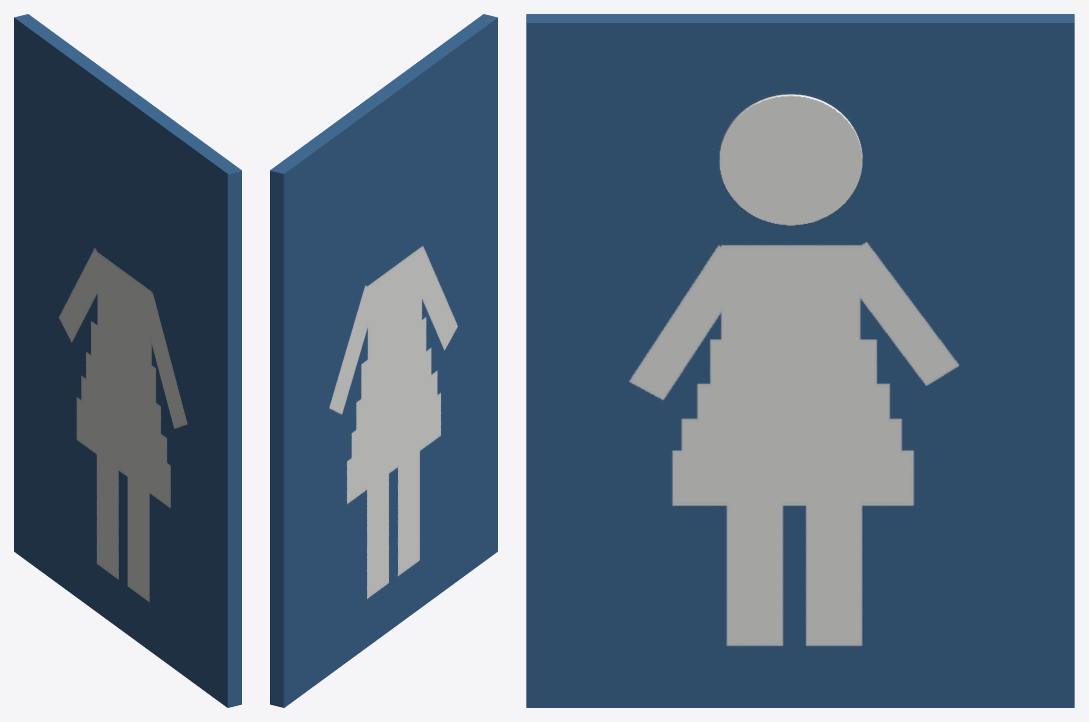
Rendered from women_bathroom_sign.glb.
3 views of the same model, side by side, from view 1: azimuth 30°, elevation 25°; view 2: azimuth 150°, elevation 25°; view 3: azimuth 270°, elevation 25° (orthographic). The views are drawn at different scales.
Visible parts, largest first — view 1: Object_2; view 2: Object_2; view 3: Object_2.
Boxes of the visible parts, x1,y1,x2,y2 form: Object_2: (14, 14, 241, 707); Object_2: (270, 14, 497, 707); Object_2: (526, 14, 1074, 707).
Bounding box in the file's own units: 0.1243 × 3.51 × 2.55.
Materials: 1 (1 with a texture image).
